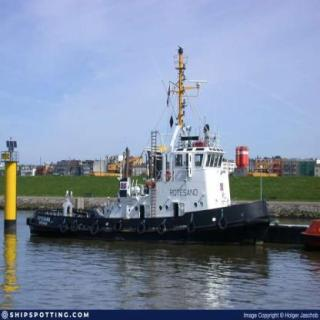Tug Boat: (20, 37, 272, 238)
